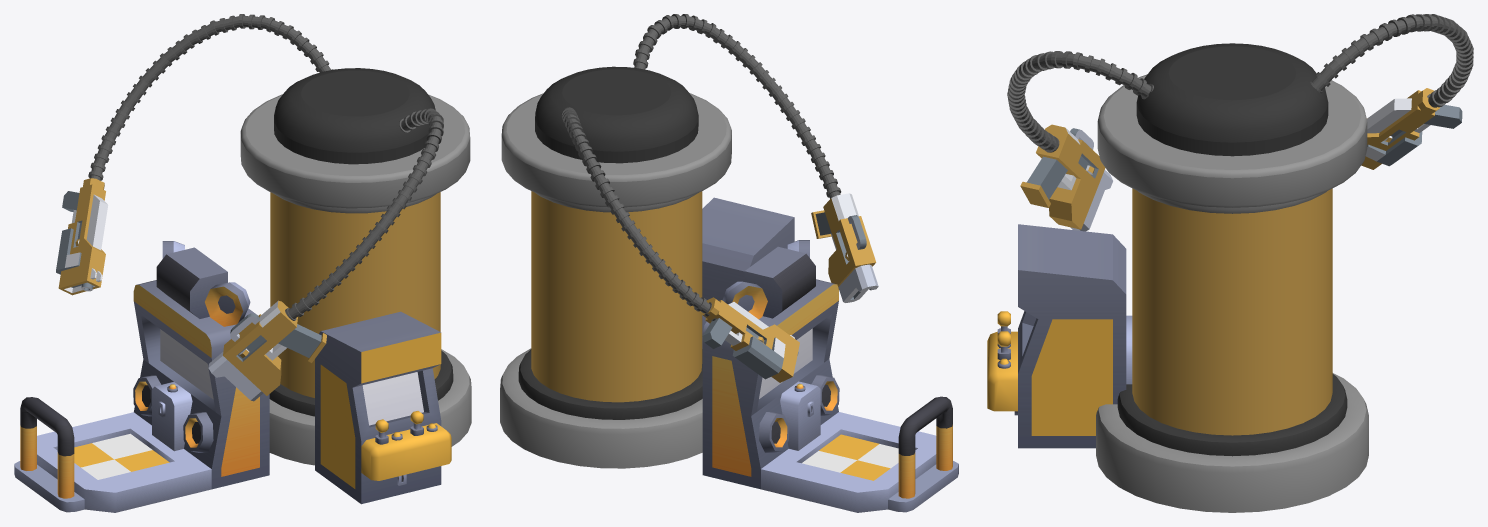
File: Machine_Yellow.fbx
The picture shows the model from 3 angles, left to right: view 1: azimuth 30°, elevation 25°; view 2: azimuth 150°, elevation 25°; view 3: azimuth 270°, elevation 25°; orthographic projection. The views are drawn at different scales.
Visible parts, largest first — view 1: dance-machine.002; view 2: dance-machine.002; view 3: dance-machine.002.
Boxes of the visible parts, x1,y1,x2,y2 form: dance-machine.002: [14, 14, 471, 512]; dance-machine.002: [500, 14, 958, 512]; dance-machine.002: [987, 14, 1473, 512].
Size of the model in its own units: 867 by 710 by 744.
12 materials, 2 textured.
